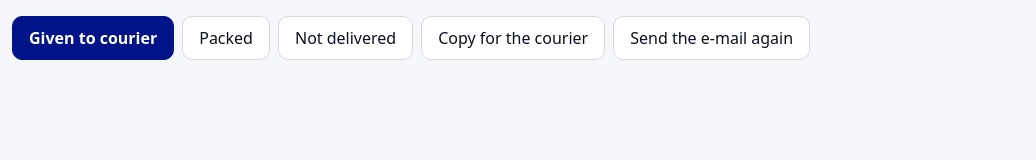
the repeat e-mail button › says to wait a minute when the API refuses a second request
Click the button with test id "shop-order-resend": (712, 38) [613, 16, 810, 60]
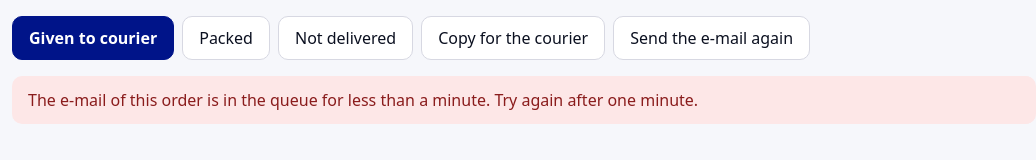
Check: the message with test id "shop-order-note" shows "less than a minute", box [28, 89, 698, 111]
